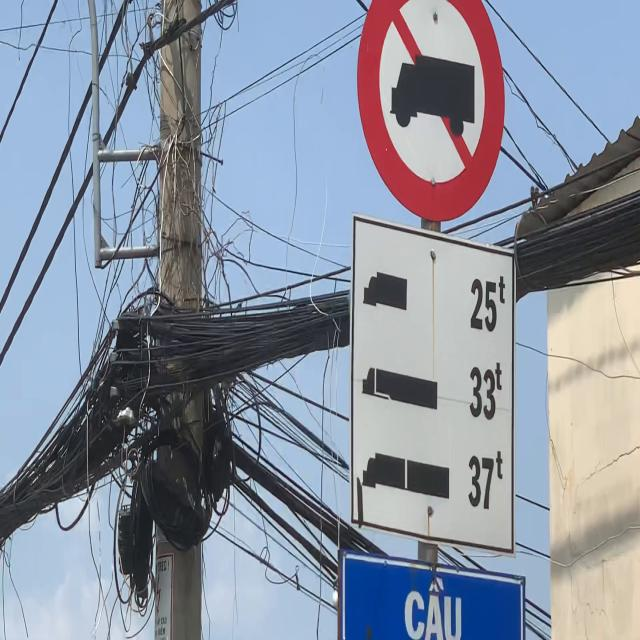Cam con lai: (355, 0, 500, 220)
